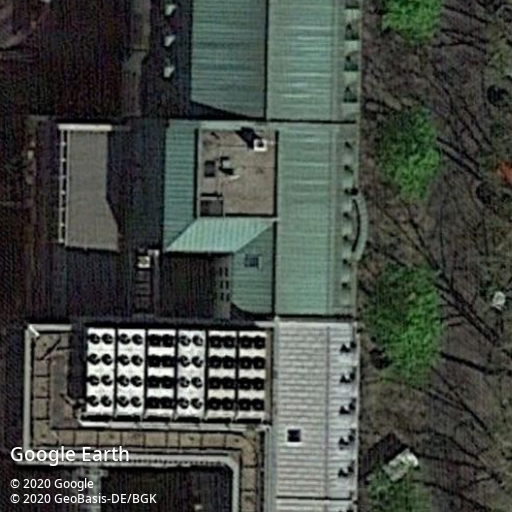Chiller: (205, 328, 238, 419), (84, 326, 116, 417), (144, 327, 176, 418), (115, 327, 146, 418), (237, 330, 268, 420), (176, 328, 206, 419), (252, 137, 269, 154)
